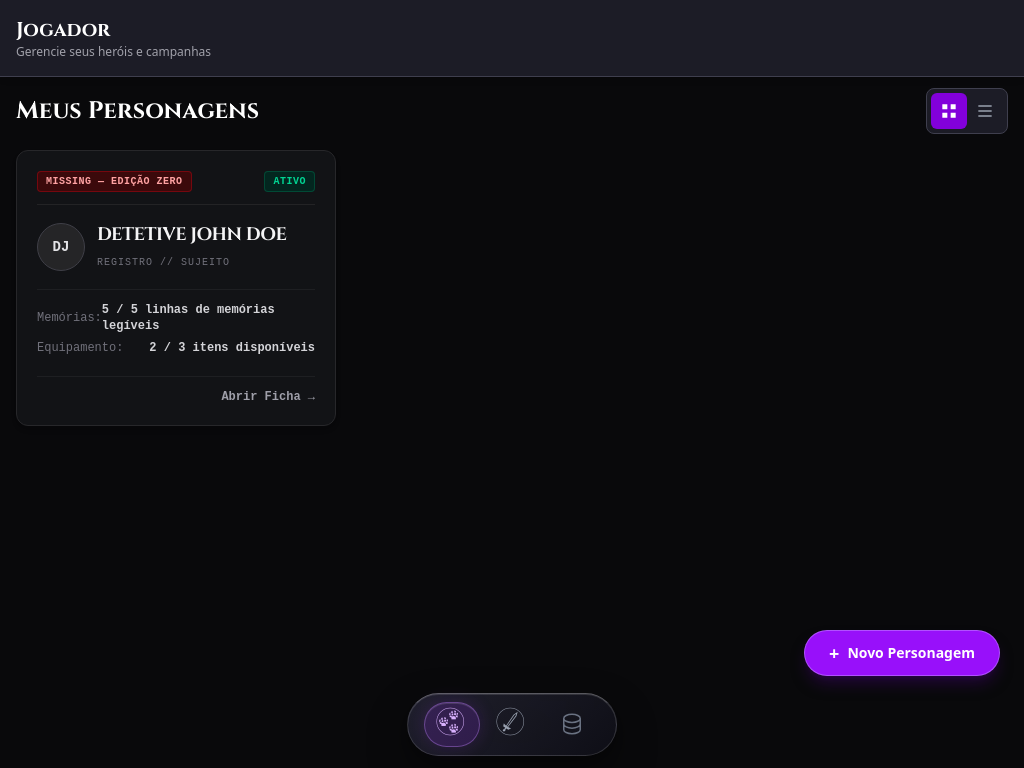
Test: PlayerDashboard - MISSING Habitants Integration › abre a ficha do Habitante ao clicar no card e permite fechá-la
Expected: the heading "Detetive John Doe" is shown, 97,221 -> 315,249
# Clica no card do habitante
Click the button with test id "missing-habitant-card-hab-1": [176, 288] box 16,150 -> 336,426
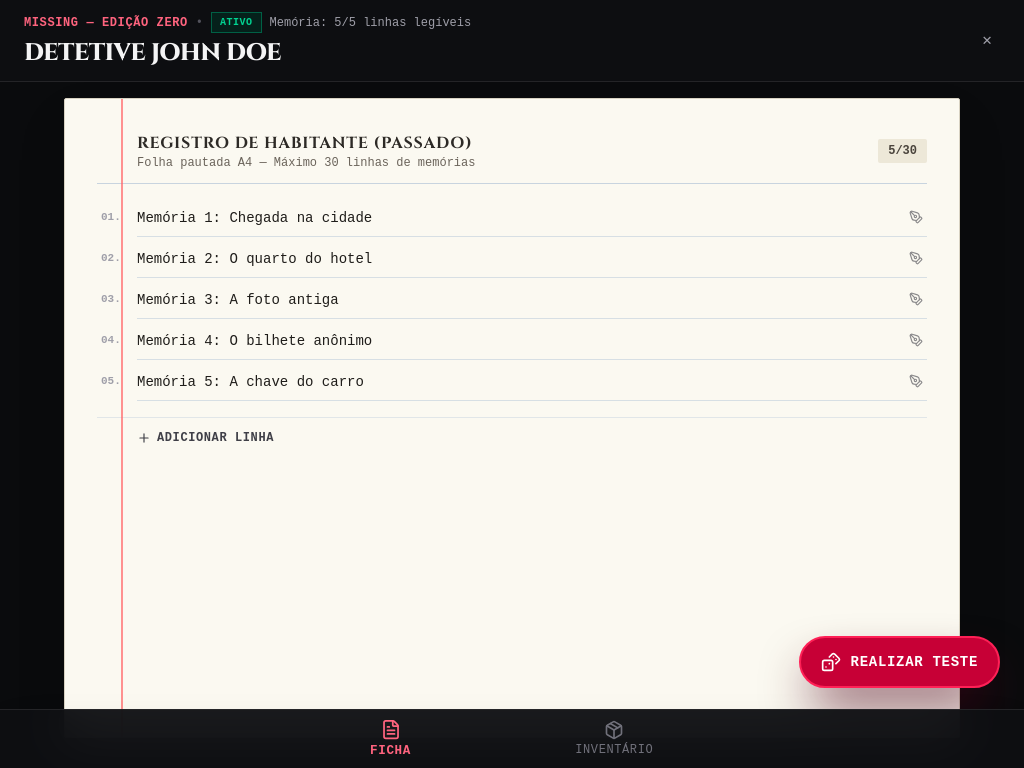
Expected: the element with test id "missing-habitant-sheet" is shown
Expected: the text "Memória 1: Chegada na cidade" is shown, 137,210 -> 372,226
# Fecha a ficha clicando no botão de fechar
Click the button named "Fechar ficha": [987, 40] box 974,20 -> 1000,60
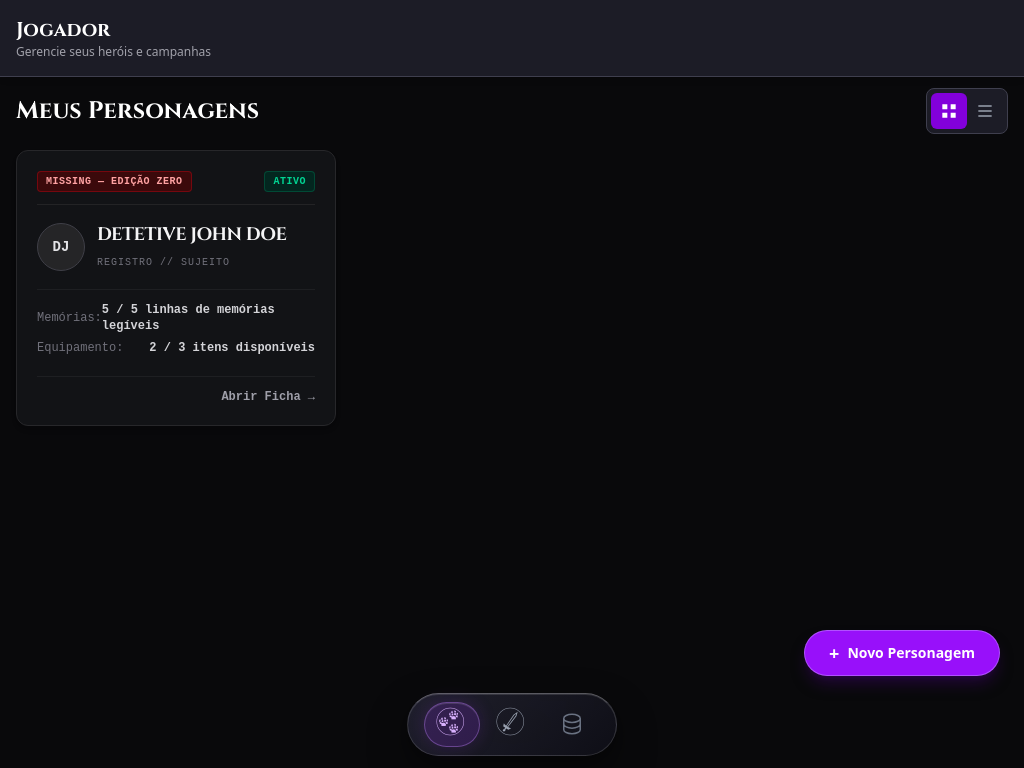
Expected: the element with test id "missing-habitant-sheet" is gone
